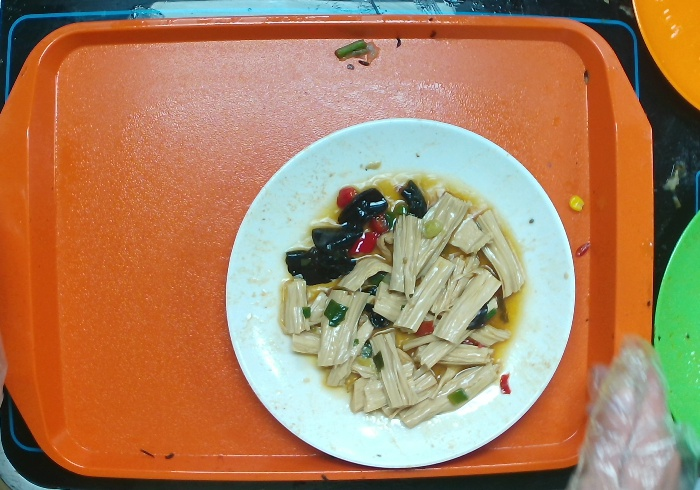HZYJPL-Bai_Se_Yuan_Pan: (222, 115, 578, 471)
